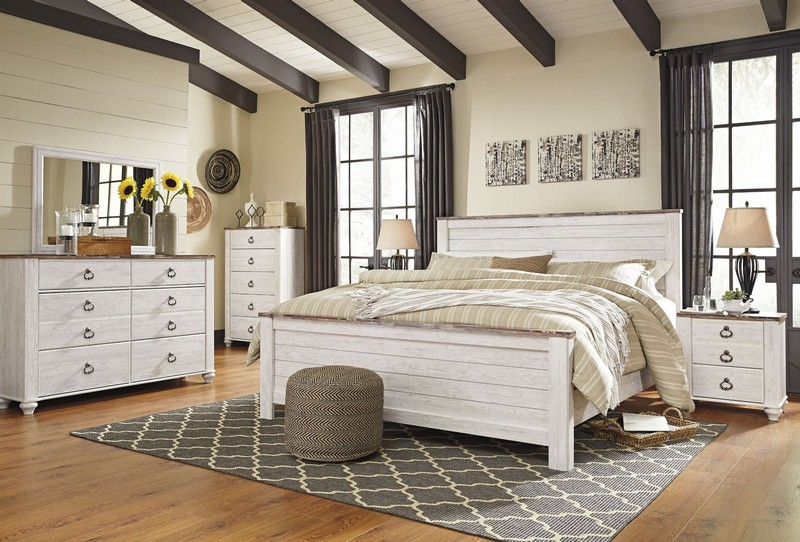bed: (267, 215, 683, 452)
lamp: (715, 199, 779, 305), (378, 214, 420, 270)
stool: (674, 308, 790, 421), (281, 365, 385, 458)
